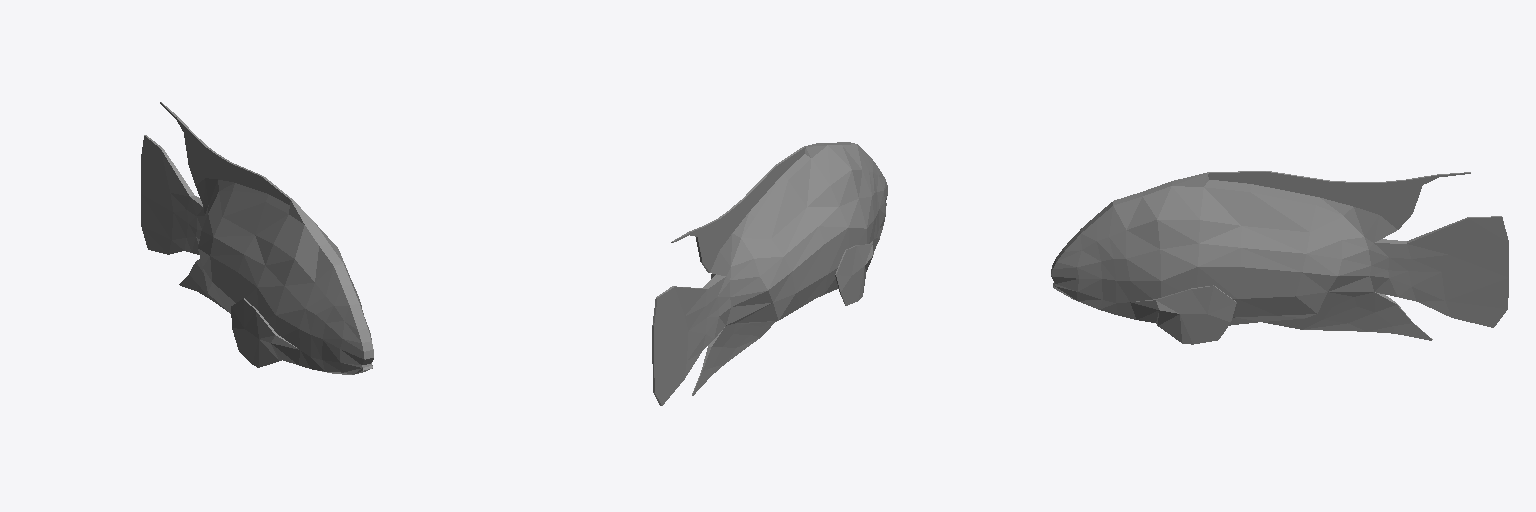
The model's file is TropicalFish14.obj.
3 renders of one model, left to right at view 1: azimuth 30°, elevation 25°; view 2: azimuth 150°, elevation 25°; view 3: azimuth 270°, elevation 25°, orthographic.
Parts seen in each view (by area): view 1: TropicalFish14; view 2: TropicalFish14; view 3: TropicalFish14.
Boxes of the visible parts, box(x1,y1,x2,y2) form: TropicalFish14: box(141, 102, 373, 374); TropicalFish14: box(652, 142, 887, 405); TropicalFish14: box(1051, 171, 1508, 344).
Size of the model in its own units: 2.13 by 3.57 by 8.75.